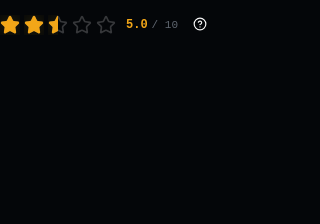
Test case: StarRatingInput › renders help tooltip button and shows instructions on hover
This screenshot has width=320, height=224.
# Hover sobre o botão de ajuda
Hover over the button named "como funciona a avaliação" at (200, 24), box [188,12,212,36]
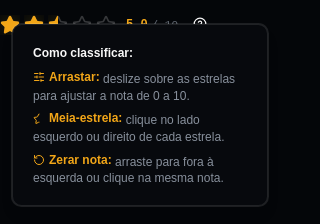
Expected: the text "Como classificar:" is shown, [33,46,133,60]
Expected: the text "deslize sobre as estrelas para ajustar a nota de 0 a 10." is shown, [33,72,235,103]
Expected: the text "clique no lado esquerdo ou direito de cada estrela." is shown, [33,114,224,144]
